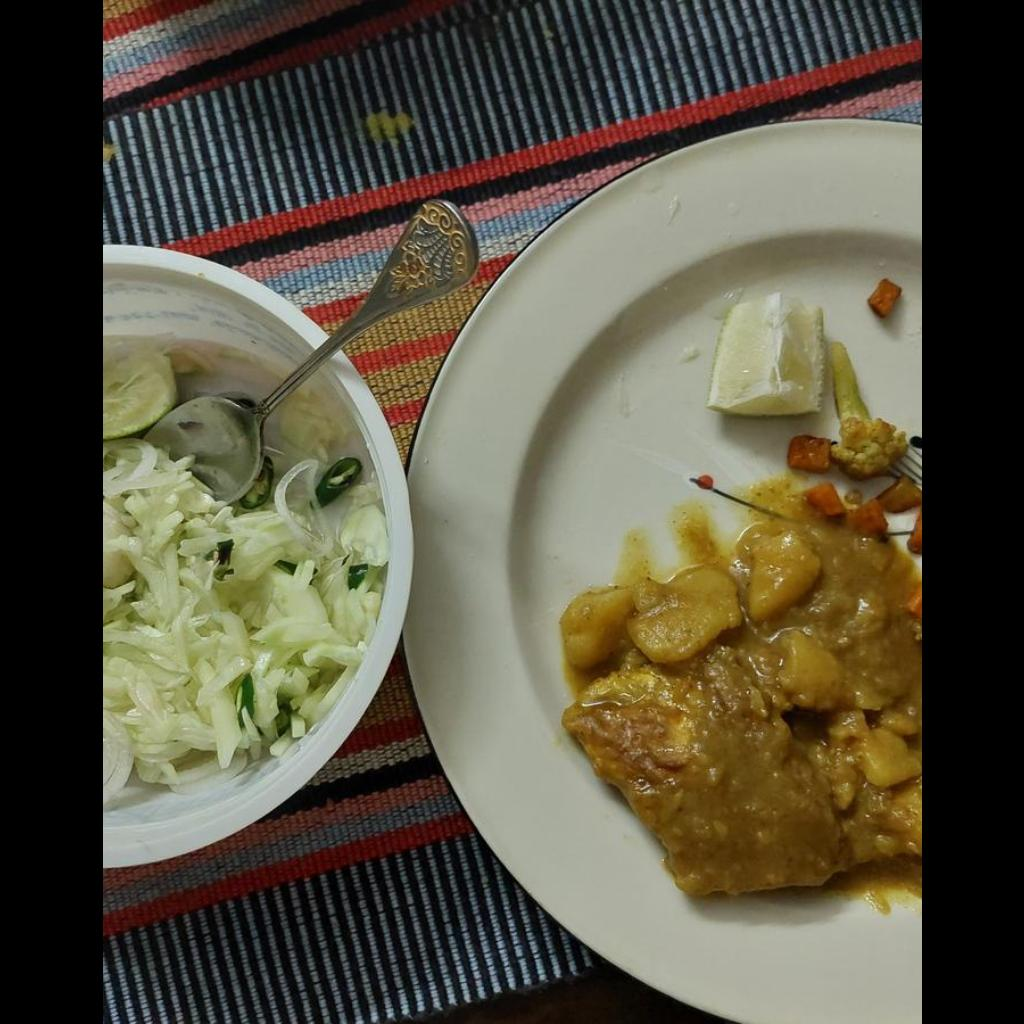chicken: (566, 647, 845, 901)
lemon: (715, 290, 822, 417)
potato: (561, 511, 920, 861)
salad: (102, 435, 383, 804)
